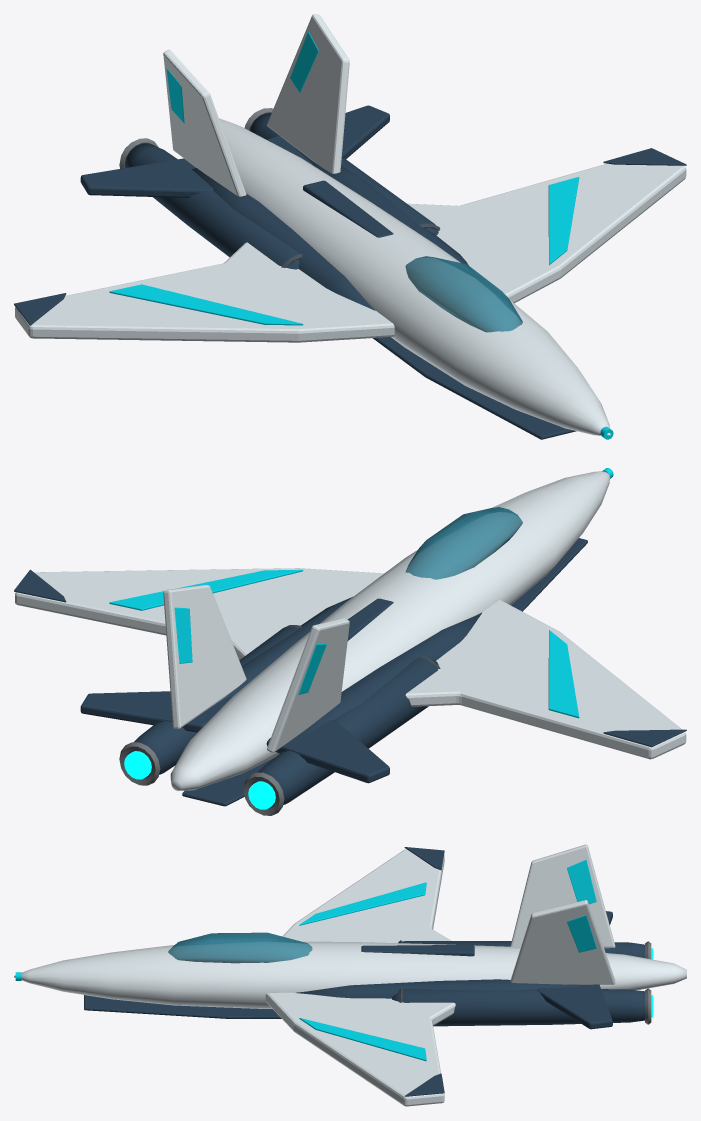
Rendered from kestrel.glb.
The picture shows the model from 3 angles, top to bottom: view 1: azimuth 30°, elevation 25°; view 2: azimuth 150°, elevation 25°; view 3: azimuth 270°, elevation 25°; orthographic projection. The views are drawn at different scales.
Parts seen in each view (by area): view 1: Kestrel_White, Kestrel_Navy, Kestrel_Cyan, Kestrel_Canopy; view 2: Kestrel_White, Kestrel_Navy, Kestrel_Cyan, Kestrel_Canopy, Kestrel_Exhaust, Kestrel_Glow; view 3: Kestrel_White, Kestrel_Navy, Kestrel_Cyan, Kestrel_Canopy.
Part boxes in pixels (left/top/right/bottom): Kestrel_White: left=15, top=14, right=686, bottom=436; Kestrel_Navy: left=14, top=105, right=686, bottom=439; Kestrel_Cyan: left=109, top=32, right=613, bottom=439; Kestrel_Canopy: left=405, top=256, right=522, bottom=332; Kestrel_White: left=15, top=471, right=686, bottom=790; Kestrel_Navy: left=14, top=538, right=686, bottom=808; Kestrel_Cyan: left=109, top=468, right=613, bottom=718; Kestrel_Canopy: left=405, top=507, right=522, bottom=579; Kestrel_Exhaust: left=119, top=742, right=284, bottom=815; Kestrel_Glow: left=124, top=751, right=275, bottom=809; Kestrel_White: left=14, top=844, right=686, bottom=1106; Kestrel_Navy: left=84, top=847, right=644, bottom=1096; Kestrel_Cyan: left=15, top=859, right=596, bottom=1061; Kestrel_Canopy: left=168, top=932, right=312, bottom=963.
Bounding box in the file's own units: 22.77 × 5.56 × 26.
